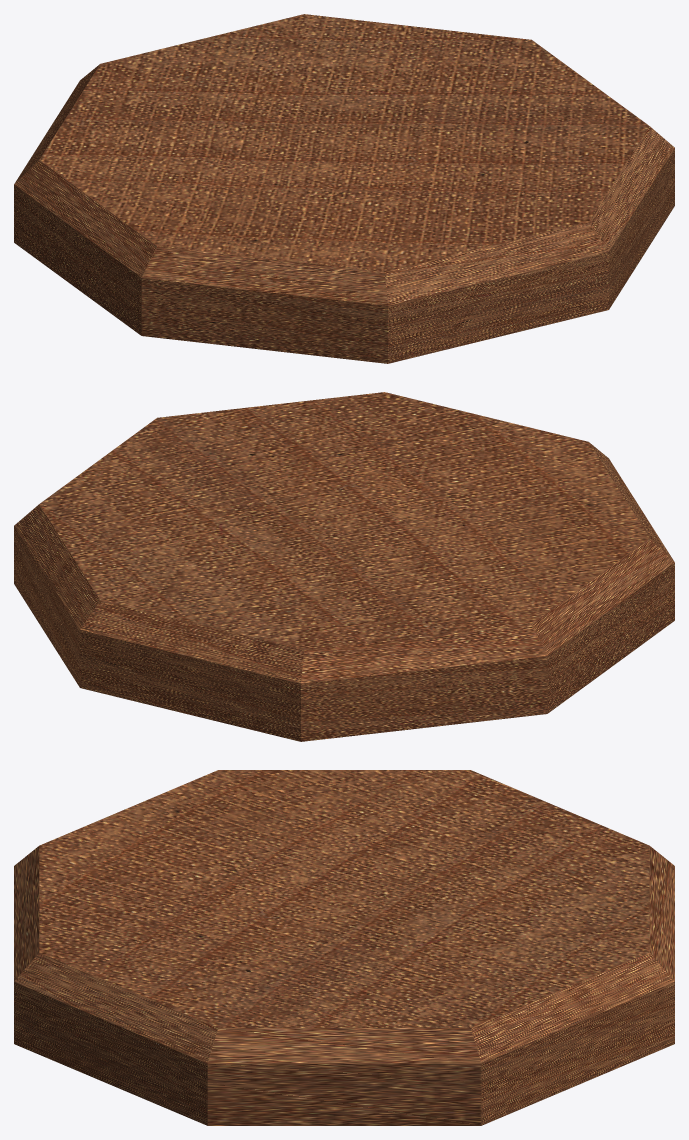
The model's file is Octogon.FBX.
3 views of the same model, one above another, from view 1: azimuth 30°, elevation 25°; view 2: azimuth 150°, elevation 25°; view 3: azimuth 270°, elevation 25° (orthographic). The views are drawn at different scales.
Visible parts, largest first — view 1: Octogon; view 2: Octogon; view 3: Octogon.
Part boxes in pixels (x1,y1,x2,y2): Octogon: [14, 14, 674, 363]; Octogon: [14, 392, 674, 741]; Octogon: [14, 770, 674, 1125].
Bounding box in the file's own units: 24.15 × 24.15 × 3.51.
